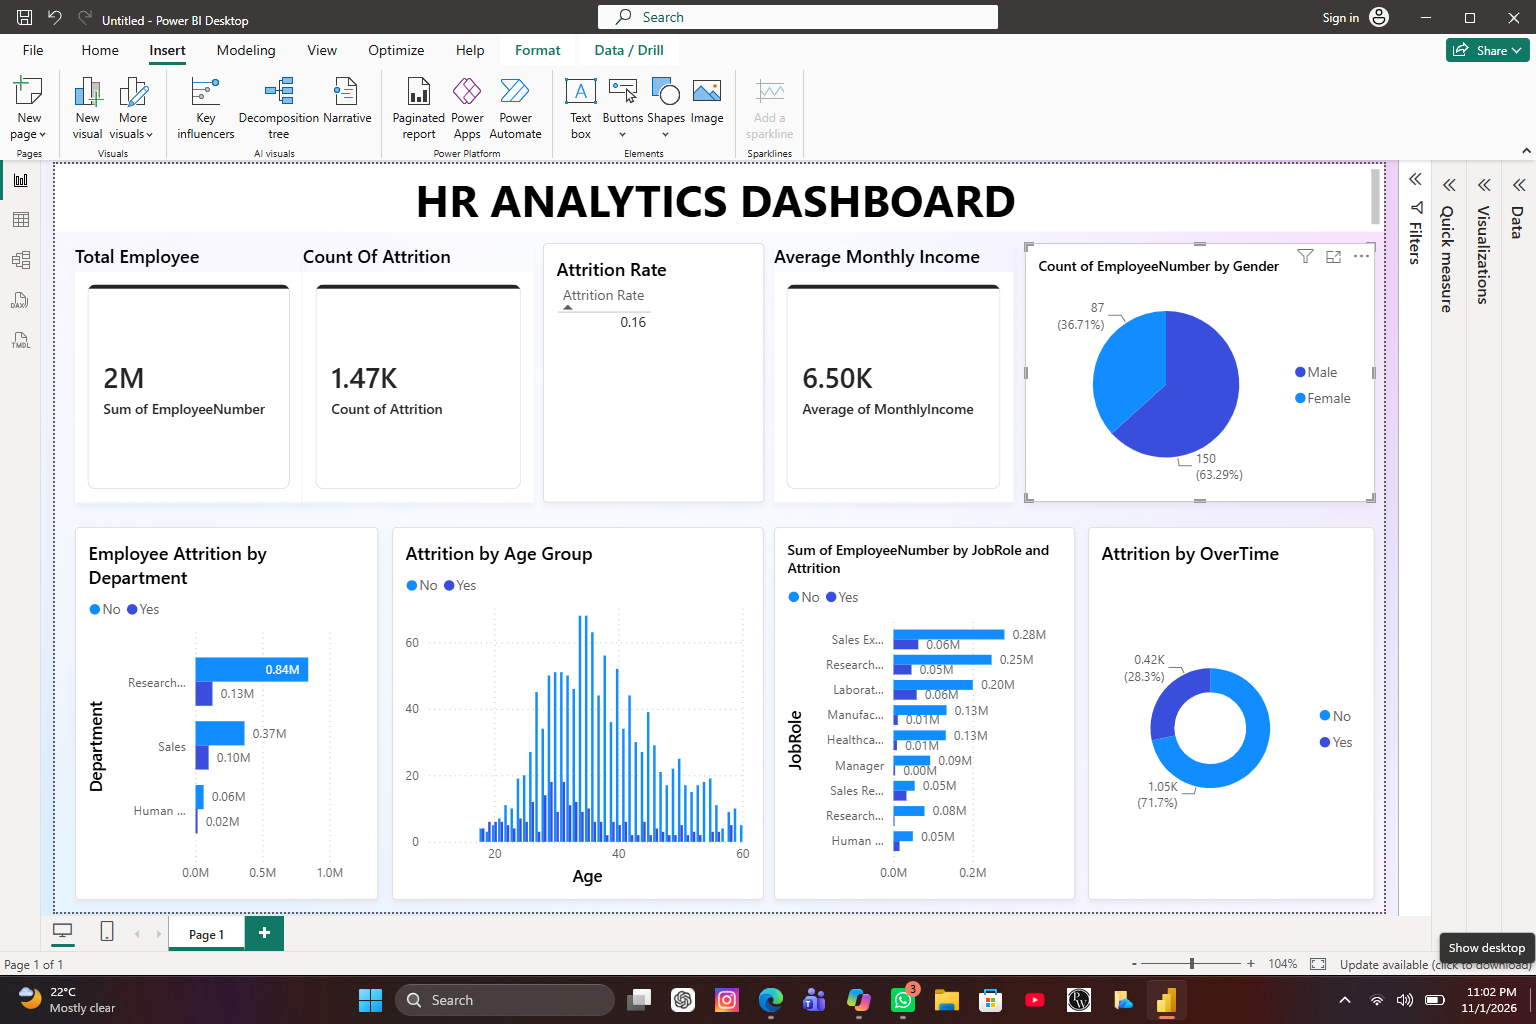

The dashboard page shown, as its layout file describes it:
{"tool":"powerbi","page":{"name":"Page 1","canvas":[1280,720],"ordinal":0},"visuals":[{"type":"cardVisual","title":"Total Employee","fields":{"Data":["Sum(WA_Fn-UseC_-HR-Employee-Attrition.EmployeeNumber)"]},"box":[19.2,75.7,219.9,250],"z":0},{"type":"cardVisual","title":"Count Of Attrition","fields":{"Data":["CountNonNull(WA_Fn-UseC_-HR-Employee-Attrition.Attrition)"]},"box":[239.2,75.7,222.3,250],"z":1},{"type":"tableEx","title":"Attrition Rate","fields":{"Values":["WA_Fn-UseC_-HR-Employee-Attrition.Attrition Rate"]},"box":[469.9,75.7,212.7,250],"z":3},{"type":"cardVisual","title":"Average Monthly Income","fields":{"Data":["Avg(WA_Fn-UseC_-HR-Employee-Attrition.MonthlyIncome)"]},"box":[692.3,75.7,230.8,250],"z":4},{"type":"clusteredBarChart","title":" Employee Attrition by Department ","fields":{"Y":["Sum(WA_Fn-UseC_-HR-Employee-Attrition.EmployeeNumber)"],"Category":["WA_Fn-UseC_-HR-Employee-Attrition.Department"],"Series":["WA_Fn-UseC_-HR-Employee-Attrition.Attrition"]},"box":[19.2,349.7,292.1,359.4],"z":5},{"type":"clusteredColumnChart","title":"Attrition by Age Group","fields":{"Category":["WA_Fn-UseC_-HR-Employee-Attrition.Age"],"Y":["CountNonNull(WA_Fn-UseC_-HR-Employee-Attrition.EmployeeNumber)"],"Series":["WA_Fn-UseC_-HR-Employee-Attrition.Attrition"]},"box":[324.5,349.7,358.2,359.4],"z":6},{"type":"clusteredBarChart","fields":{"Category":["WA_Fn-UseC_-HR-Employee-Attrition.JobRole"],"Y":["Sum(WA_Fn-UseC_-HR-Employee-Attrition.EmployeeNumber)"],"Series":["WA_Fn-UseC_-HR-Employee-Attrition.Attrition"]},"box":[692.3,349.7,289.7,359.4],"z":7},{"type":"donutChart","title":"Attrition by OverTime","fields":{"Category":["WA_Fn-UseC_-HR-Employee-Attrition.OverTime"],"Y":["CountNonNull(WA_Fn-UseC_-HR-Employee-Attrition.EmployeeNumber)"]},"box":[994,349.7,276.4,359.4],"z":8},{"type":"pieChart","fields":{"Category":["WA_Fn-UseC_-HR-Employee-Attrition.Gender"],"Y":["CountNonNull(WA_Fn-UseC_-HR-Employee-Attrition.EmployeeNumber)"]},"box":[933.9,75.7,336.5,250],"z":9},{"type":"textbox","box":[0,0,1280,64.9],"z":10}]}

Visuals, with their boxes on the page's 1280x720 design canvas (x1, y1, x2, y2). These are canvas units, not pixel positions in the 1536x1024 screenshot, which may show the page scaled, cropped or inside an application window:
"Total Employee" cardVisual: bbox(19, 76, 239, 326)
"Count Of Attrition" cardVisual: bbox(239, 76, 462, 326)
"Attrition Rate" tableEx: bbox(470, 76, 683, 326)
"Average Monthly Income" cardVisual: bbox(692, 76, 923, 326)
" Employee Attrition by Department " clusteredBarChart: bbox(19, 350, 311, 709)
"Attrition by Age Group" clusteredColumnChart: bbox(324, 350, 683, 709)
clusteredBarChart - WA_Fn-UseC_-HR-Employee-Attrition.JobRole x Sum(WA_Fn-UseC_-HR-Employee-Attrition.EmployeeNumber): bbox(692, 350, 982, 709)
"Attrition by OverTime" donutChart: bbox(994, 350, 1270, 709)
pieChart - WA_Fn-UseC_-HR-Employee-Attrition.Gender x CountNonNull(WA_Fn-UseC_-HR-Employee-Attrition.EmployeeNumber): bbox(934, 76, 1270, 326)
textbox: bbox(0, 0, 1280, 65)
